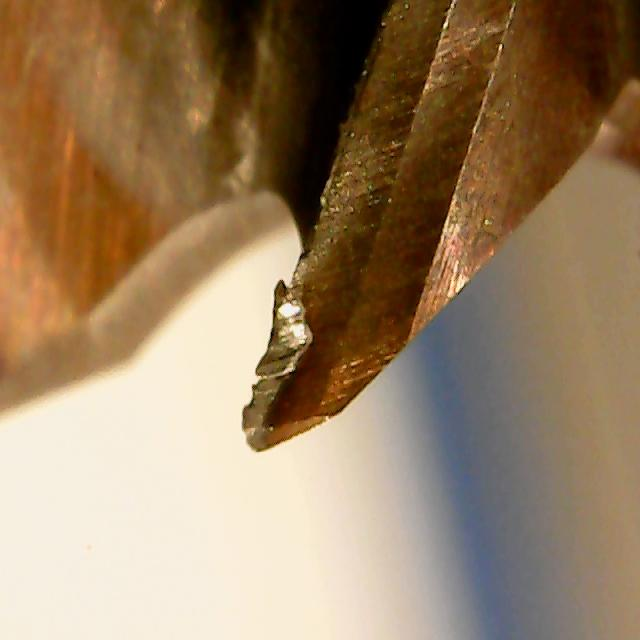Tool-wear-class-2: (225, 205, 404, 463)
